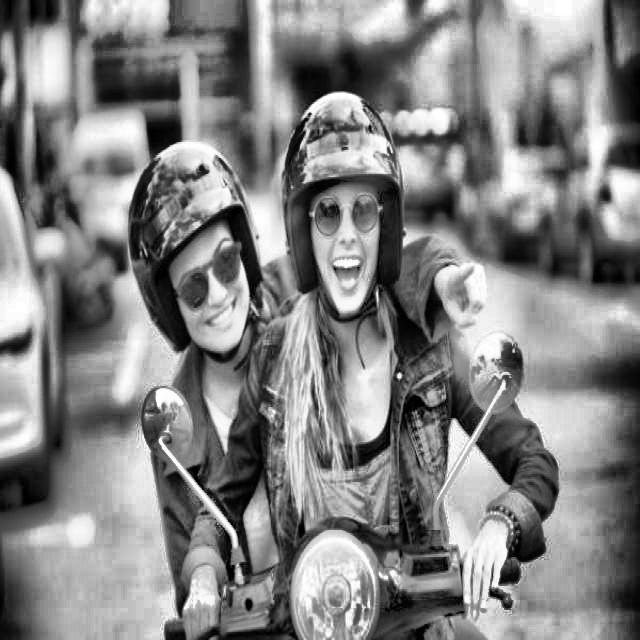Helmet: (124, 134, 267, 367), (278, 86, 408, 327)
